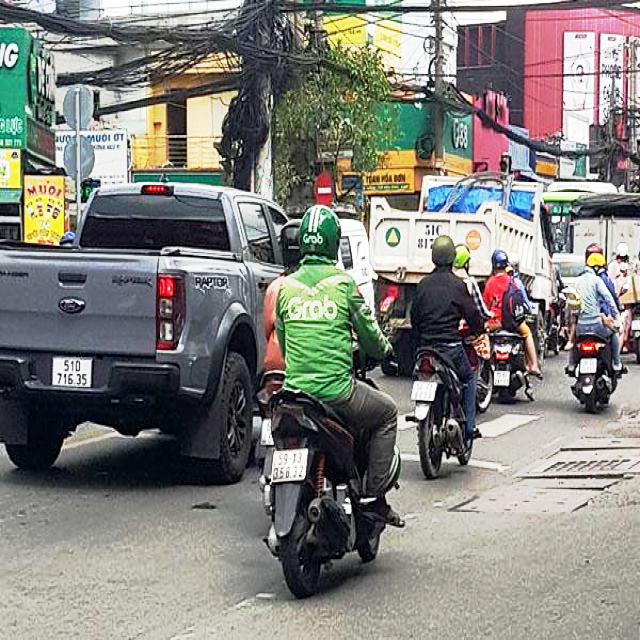license_plate: (53, 359, 93, 391), (271, 448, 309, 481)
